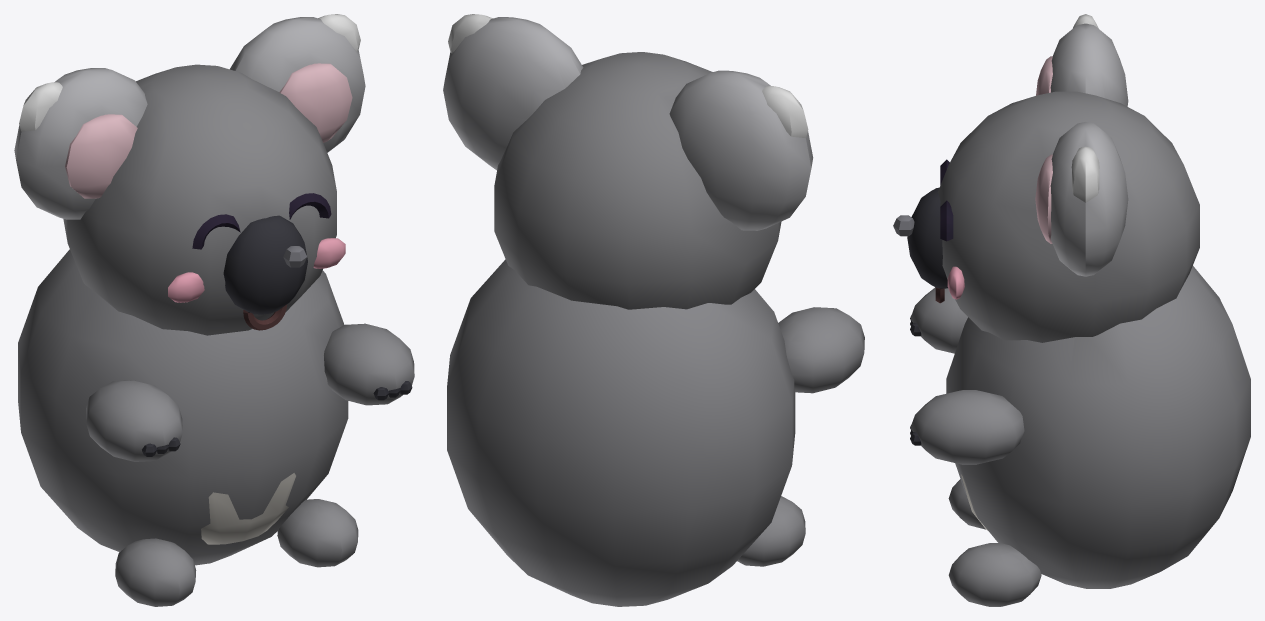
Rendered from pp-koala.glb.
3 views of the same model, side by side, from view 1: azimuth 30°, elevation 25°; view 2: azimuth 150°, elevation 25°; view 3: azimuth 270°, elevation 25° (orthographic). The views are drawn at different scales.
Size of the model in its own units: 0.6 by 0.846 by 0.5536.
